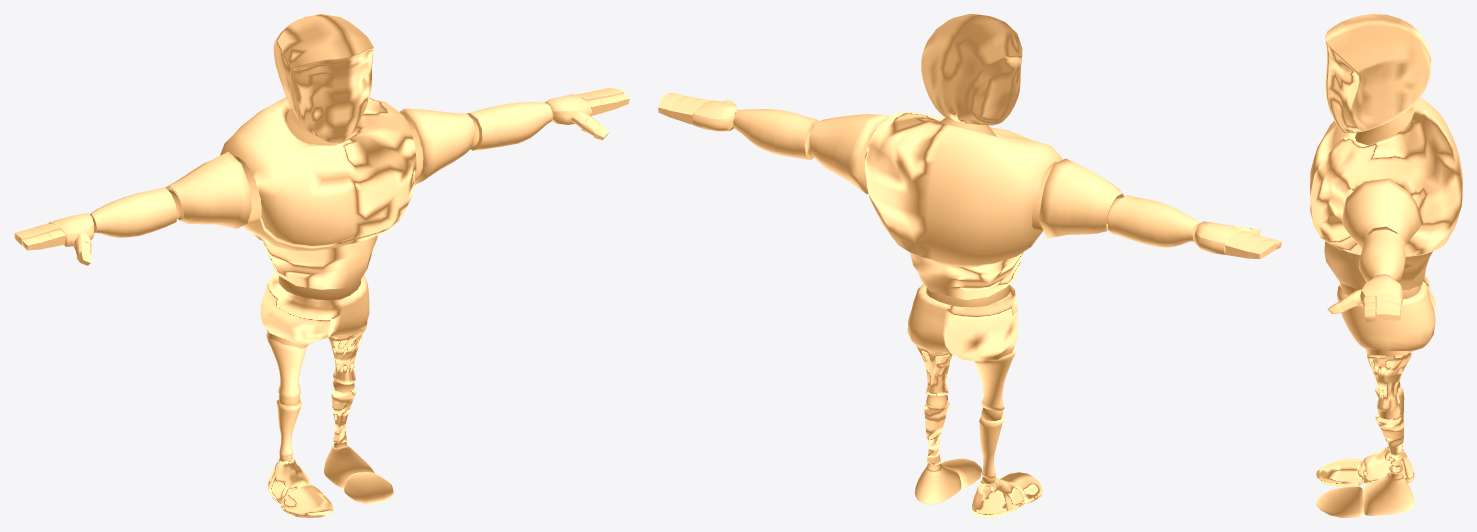
Rendered from beefyMeshUpdate.fbx.
3 views of the same model, side by side, from view 1: azimuth 30°, elevation 25°; view 2: azimuth 150°, elevation 25°; view 3: azimuth 270°, elevation 25° (orthographic).
Visible parts, largest first — view 1: Ultimate_Beefy_v1_0_2:Beefy_chest, Ultimate_Beefy_v1_0_2:Beefy_head, Ultimate_Beefy_v1_0_2:Beefy_R_arm, Ultimate_Beefy_v1_0_2:Beefy_L_arm, Ultimate_Beefy_v1_0_2:Beefy_pelvis, Ultimate_Beefy_v1_0_2:Beefy_spine2, Ultimate_Beefy_v1_0_2:Beefy_R_leg, Ultimate_Beefy_v1_0_2:Beefy_L_leg, Ultimate_Beefy_v1_0_2:Beefy_R_leg_toe, Ultimate_Beefy_v1_0_2:Beefy_L_leg_toe, Ultimate_Beefy_v1_0_2:Beefy_L_leg_foot, Ultimate_Beefy_v1_0_2:Beefy_R_leg_foot (+3 smaller); view 2: Ultimate_Beefy_v1_0_2:Beefy_chest, Ultimate_Beefy_v1_0_2:Beefy_head, Ultimate_Beefy_v1_0_2:Beefy_R_arm, Ultimate_Beefy_v1_0_2:Beefy_L_arm, Ultimate_Beefy_v1_0_2:Beefy_pelvis, Ultimate_Beefy_v1_0_2:Beefy_spine2, Ultimate_Beefy_v1_0_2:Beefy_R_leg, Ultimate_Beefy_v1_0_2:Beefy_L_leg, Ultimate_Beefy_v1_0_2:Beefy_R_leg_foot, Ultimate_Beefy_v1_0_2:Beefy_L_leg_foot, Ultimate_Beefy_v1_0_2:Beefy_L_hand, Ultimate_Beefy_v1_0_2:Beefy_R_hand (+2 smaller); view 3: Ultimate_Beefy_v1_0_2:Beefy_chest, Ultimate_Beefy_v1_0_2:Beefy_head, Ultimate_Beefy_v1_0_2:Beefy_L_arm, Ultimate_Beefy_v1_0_2:Beefy_pelvis, Ultimate_Beefy_v1_0_2:Beefy_L_leg, Ultimate_Beefy_v1_0_2:Beefy_spine2, Ultimate_Beefy_v1_0_2:Beefy_L_leg_foot, Ultimate_Beefy_v1_0_2:Beefy_L_leg_toe, Ultimate_Beefy_v1_0_2:Beefy_R_leg_toe, Ultimate_Beefy_v1_0_2:Beefy_R_leg_foot, Ultimate_Beefy_v1_0_2:Beefy_neck, Ultimate_Beefy_v1_0_2:Beefy_L_hand (+6 smaller).
Boxes of the visible parts, x1,y1,x2,y2 form: Ultimate_Beefy_v1_0_2:Beefy_chest: [220, 97, 416, 250]; Ultimate_Beefy_v1_0_2:Beefy_head: [273, 14, 373, 142]; Ultimate_Beefy_v1_0_2:Beefy_R_arm: [90, 151, 251, 237]; Ultimate_Beefy_v1_0_2:Beefy_L_arm: [399, 102, 552, 184]; Ultimate_Beefy_v1_0_2:Beefy_pelvis: [260, 272, 369, 344]; Ultimate_Beefy_v1_0_2:Beefy_spine2: [263, 235, 377, 289]; Ultimate_Beefy_v1_0_2:Beefy_R_leg: [266, 333, 306, 456]; Ultimate_Beefy_v1_0_2:Beefy_L_leg: [328, 321, 367, 443]; Ultimate_Beefy_v1_0_2:Beefy_R_leg_toe: [281, 485, 333, 517]; Ultimate_Beefy_v1_0_2:Beefy_L_leg_toe: [344, 472, 393, 503]; Ultimate_Beefy_v1_0_2:Beefy_L_leg_foot: [324, 445, 374, 488]; Ultimate_Beefy_v1_0_2:Beefy_R_leg_foot: [268, 458, 311, 503]; Ultimate_Beefy_v1_0_2:Beefy_chest: [865, 111, 1062, 267]; Ultimate_Beefy_v1_0_2:Beefy_head: [921, 14, 1022, 125]; Ultimate_Beefy_v1_0_2:Beefy_R_arm: [1038, 158, 1200, 247]; Ultimate_Beefy_v1_0_2:Beefy_L_arm: [733, 109, 889, 193]; Ultimate_Beefy_v1_0_2:Beefy_pelvis: [907, 284, 1018, 361]; Ultimate_Beefy_v1_0_2:Beefy_spine2: [909, 252, 1023, 299]; Ultimate_Beefy_v1_0_2:Beefy_R_leg: [974, 347, 1015, 478]; Ultimate_Beefy_v1_0_2:Beefy_L_leg: [916, 345, 952, 465]; Ultimate_Beefy_v1_0_2:Beefy_R_leg_foot: [972, 477, 1024, 517]; Ultimate_Beefy_v1_0_2:Beefy_L_leg_foot: [915, 463, 961, 504]; Ultimate_Beefy_v1_0_2:Beefy_L_hand: [692, 100, 738, 131]; Ultimate_Beefy_v1_0_2:Beefy_R_hand: [1194, 221, 1242, 254]; Ultimate_Beefy_v1_0_2:Beefy_chest: [1310, 97, 1462, 257]; Ultimate_Beefy_v1_0_2:Beefy_head: [1325, 14, 1430, 133]; Ultimate_Beefy_v1_0_2:Beefy_L_arm: [1341, 178, 1423, 282]; Ultimate_Beefy_v1_0_2:Beefy_pelvis: [1337, 275, 1435, 351]; Ultimate_Beefy_v1_0_2:Beefy_L_leg: [1367, 352, 1411, 474]; Ultimate_Beefy_v1_0_2:Beefy_spine2: [1324, 241, 1432, 289]; Ultimate_Beefy_v1_0_2:Beefy_L_leg_foot: [1362, 473, 1414, 515]; Ultimate_Beefy_v1_0_2:Beefy_L_leg_toe: [1316, 486, 1364, 517]; Ultimate_Beefy_v1_0_2:Beefy_R_leg_toe: [1316, 458, 1363, 486]; Ultimate_Beefy_v1_0_2:Beefy_R_leg_foot: [1362, 447, 1414, 484]; Ultimate_Beefy_v1_0_2:Beefy_neck: [1355, 108, 1412, 144]; Ultimate_Beefy_v1_0_2:Beefy_L_hand: [1360, 274, 1403, 306].
Size of the model in its own units: 13.17 by 9.81 by 2.86.
